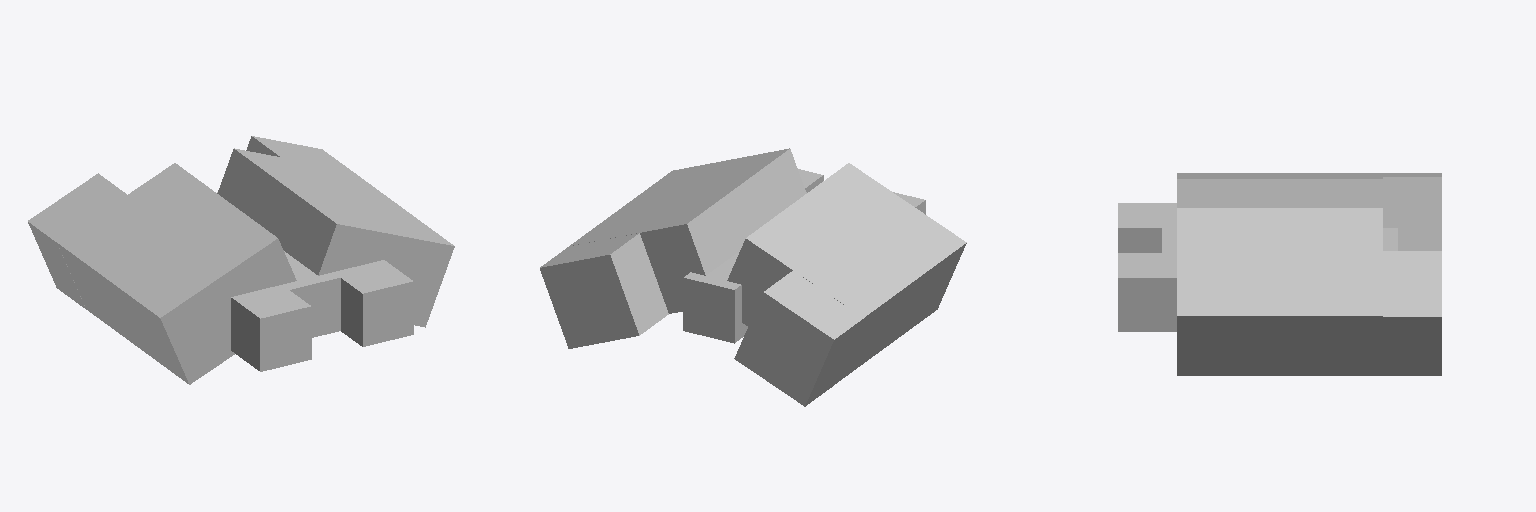
The model's file is binoculars.obj.
The picture shows the model from 3 angles: view 1: azimuth 30°, elevation 25°; view 2: azimuth 150°, elevation 25°; view 3: azimuth 270°, elevation 25°; orthographic projection.
Visible parts, largest first — view 1: cube; view 2: cube; view 3: cube.
Part boxes in pixels (left/top/right/bottom): cube: left=28, top=136, right=454, bottom=384; cube: left=540, top=148, right=966, bottom=406; cube: left=1118, top=173, right=1441, bottom=375.
Bounding box in the file's own units: 0.7215 × 0.2932 × 0.6875.